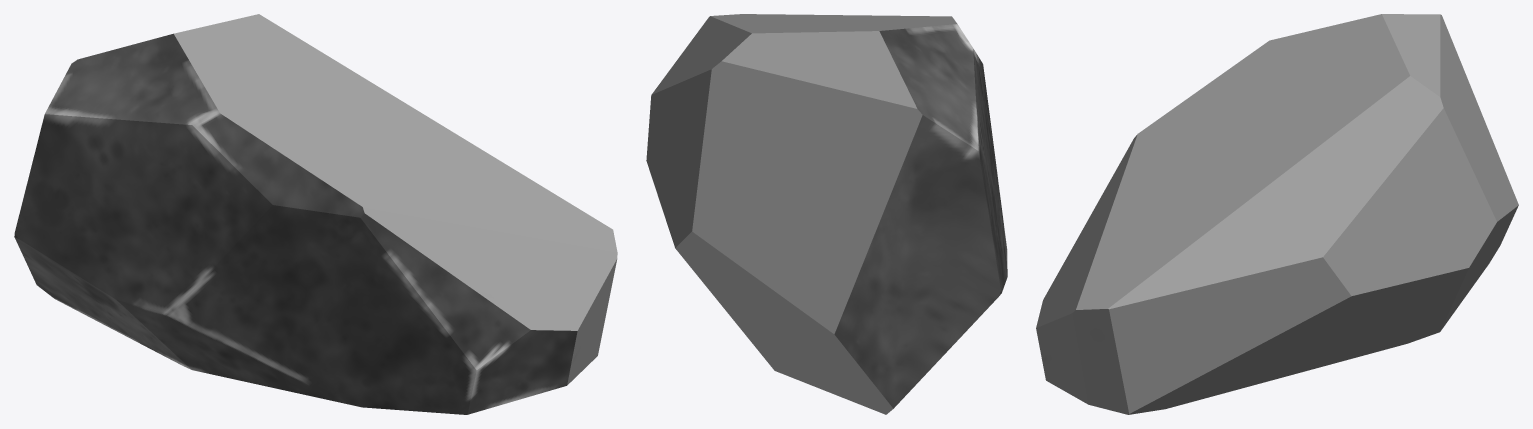
Rendered from SM_Roca3.fbx.
The picture shows the model from 3 angles, left to right: view 1: azimuth 30°, elevation 25°; view 2: azimuth 150°, elevation 25°; view 3: azimuth 270°, elevation 25°; orthographic projection. The views are drawn at different scales.
Visible parts, largest first — view 1: SM_Roca3; view 2: SM_Roca3; view 3: SM_Roca3.
Boxes of the visible parts, x1,y1,x2,y2 form: SM_Roca3: (14,14,617,414); SM_Roca3: (646,14,1007,414); SM_Roca3: (1036,14,1518,414).
Bounding box in the file's own units: 244 × 165 × 247.
